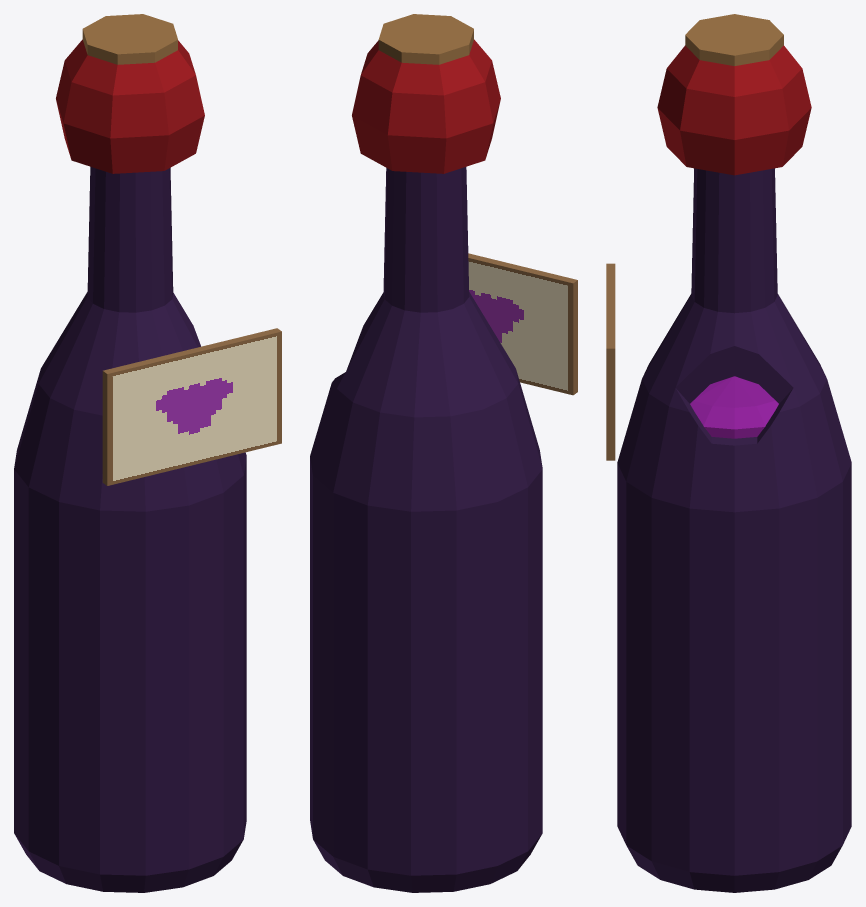
Rendered from bacchus_wine.obj.
The picture shows the model from 3 angles, left to right: view 1: azimuth 30°, elevation 25°; view 2: azimuth 150°, elevation 25°; view 3: azimuth 270°, elevation 25°; orthographic projection.
Visible parts, largest first — view 1: A_Flask.001_bacchus_wine_glass, C_Label.001_bacchus_wine_label, S_Wax.001_bacchus_wine_wax, S_Cork.001_bacchus_wine_cork; view 2: A_Flask.001_bacchus_wine_glass, S_Wax.001_bacchus_wine_wax, C_Label.001_bacchus_wine_label, S_Cork.001_bacchus_wine_cork; view 3: A_Flask.001_bacchus_wine_glass, S_Wax.001_bacchus_wine_wax, S_Cork.001_bacchus_wine_cork, A_Liquid.001_bacchus_wine_liquid, C_Label.001_bacchus_wine_label.
Boxes of the visible parts, box(x1,y1,x2,y2) form: A_Flask.001_bacchus_wine_glass: box(14, 166, 246, 892); C_Label.001_bacchus_wine_label: box(102, 328, 281, 485); S_Wax.001_bacchus_wine_wax: box(56, 39, 204, 173); S_Cork.001_bacchus_wine_cork: box(82, 14, 177, 64); A_Flask.001_bacchus_wine_glass: box(310, 167, 542, 892); S_Wax.001_bacchus_wine_wax: box(352, 39, 500, 173); C_Label.001_bacchus_wine_label: box(468, 253, 577, 395); S_Cork.001_bacchus_wine_cork: box(378, 14, 473, 64); A_Flask.001_bacchus_wine_glass: box(617, 168, 851, 892); S_Wax.001_bacchus_wine_wax: box(657, 45, 811, 175); S_Cork.001_bacchus_wine_cork: box(685, 14, 783, 66); A_Liquid.001_bacchus_wine_liquid: box(690, 376, 778, 438); C_Label.001_bacchus_wine_label: box(606, 263, 615, 460).
Bounding box in the file's own units: 0.76 × 2.91 × 0.796.
5 materials, 1 textured.
